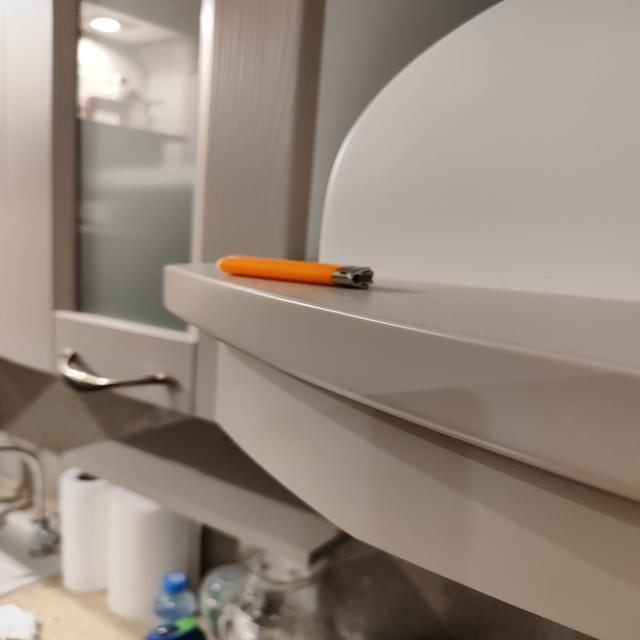lighter: (218, 256, 373, 289)
